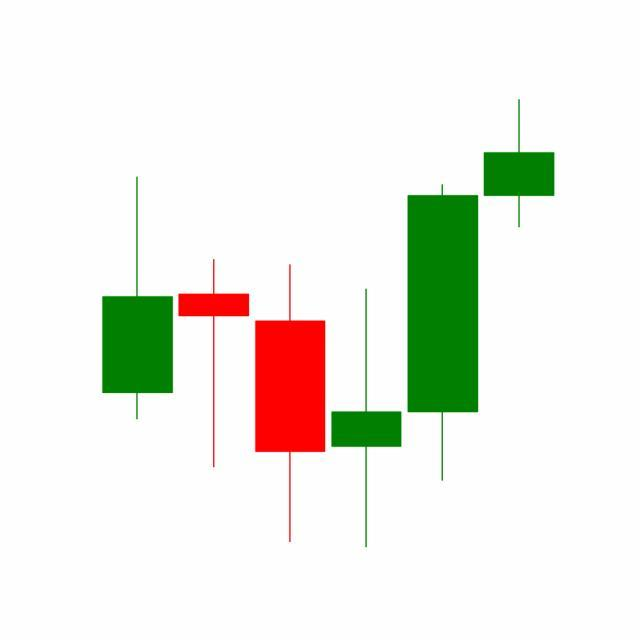Three Inside Up-Down: (252, 180, 482, 548)
